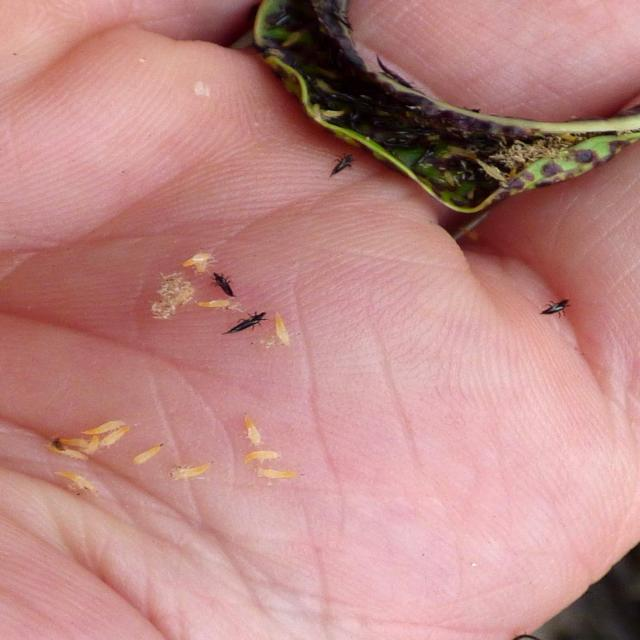Thrip-Adult-: (222, 308, 270, 340), (533, 293, 574, 320), (206, 268, 238, 296), (330, 152, 357, 174)
Thrip-Larva-: (46, 467, 108, 500), (263, 304, 301, 350), (166, 454, 220, 484), (234, 407, 270, 446), (236, 445, 292, 467), (128, 438, 166, 468), (245, 467, 308, 485), (77, 417, 131, 435), (99, 426, 132, 450), (188, 296, 232, 310)
